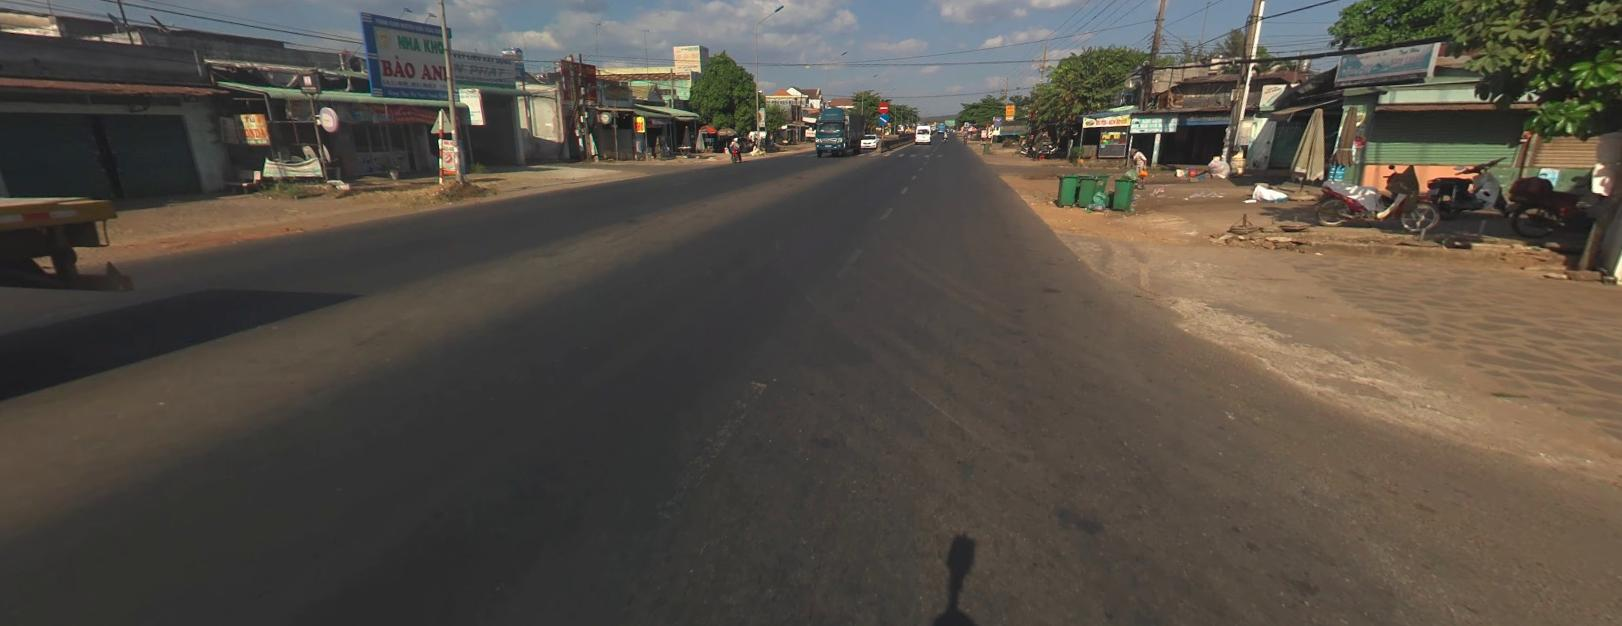Cam nguoc chieu: (877, 101, 889, 112)
Hieu lenh: (877, 113, 889, 122)
